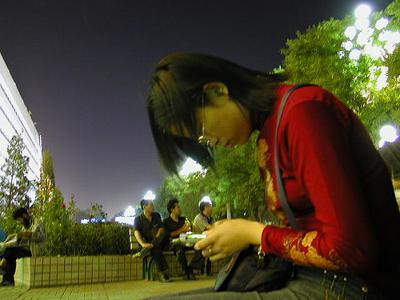person: (147, 53, 399, 300)
